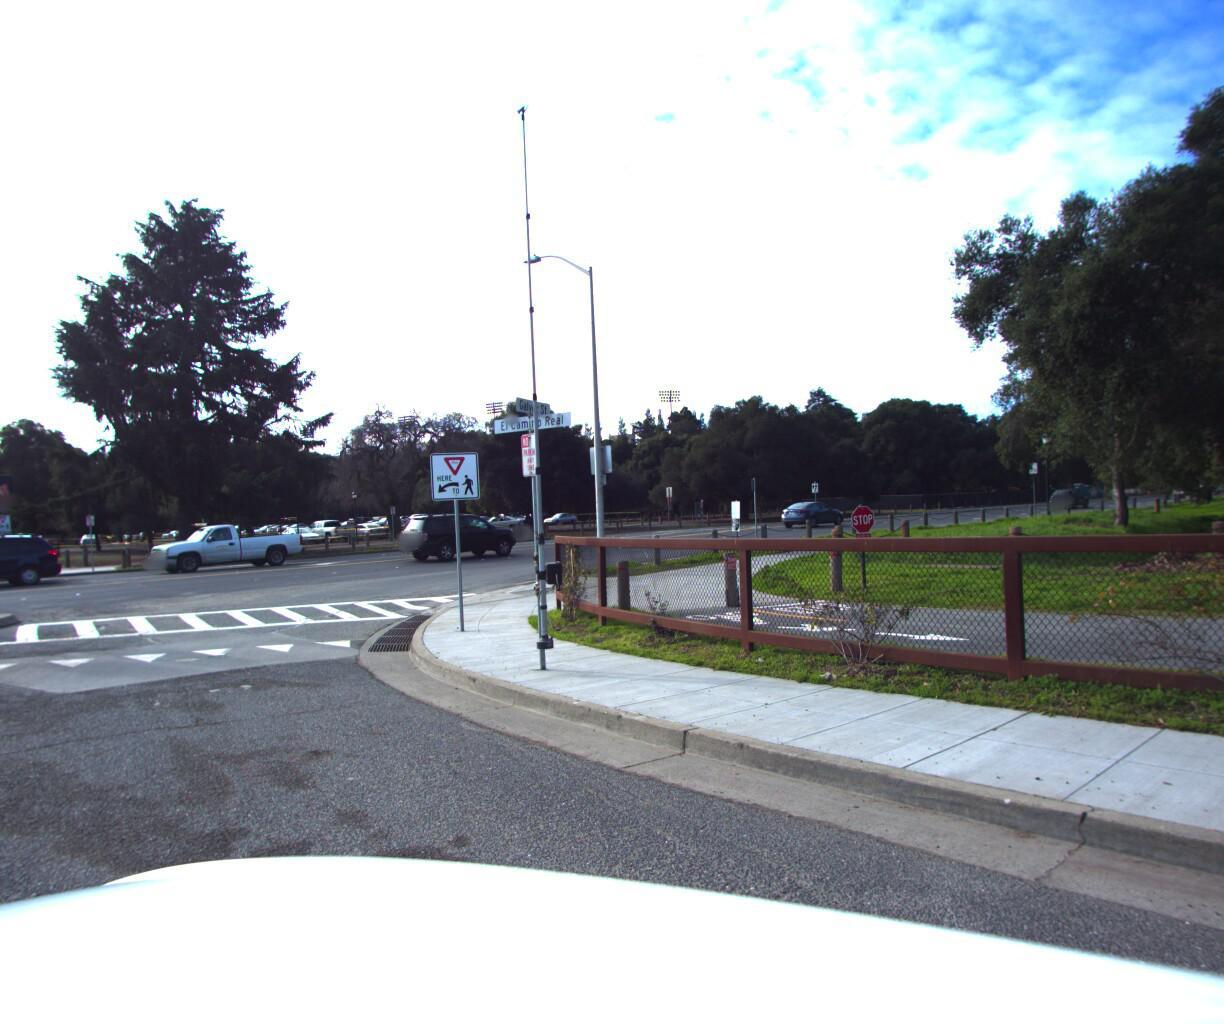car: (136, 508, 308, 573), (397, 505, 524, 557), (0, 526, 65, 595), (774, 495, 849, 527), (1044, 485, 1090, 507)
